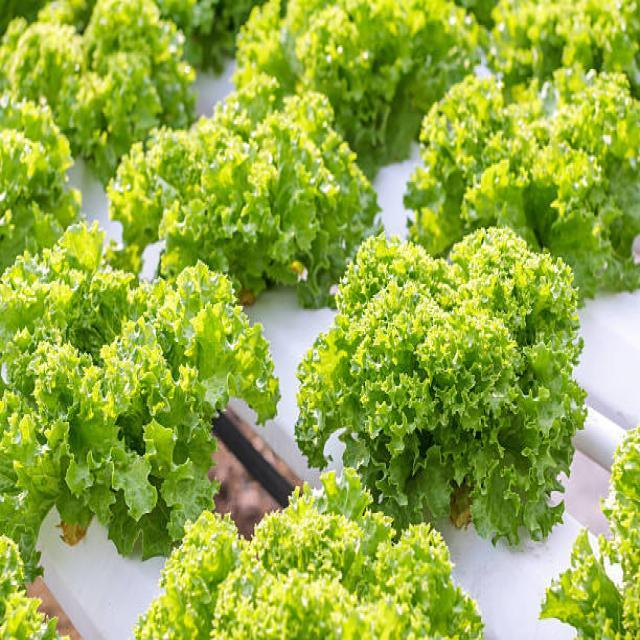Lettuce-Ready-to-Harvest: (0, 240, 262, 537), (320, 244, 570, 529), (101, 85, 377, 273), (405, 65, 640, 282), (157, 485, 476, 640), (242, 0, 467, 150), (0, 0, 195, 156)
